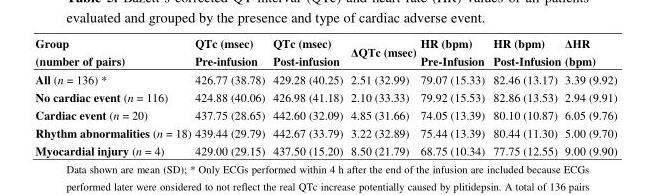table: (34, 34, 616, 158)
table column: (34, 34, 192, 158), (268, 34, 346, 158), (192, 34, 268, 158), (488, 34, 562, 158), (346, 34, 417, 158), (417, 34, 488, 158), (562, 34, 616, 158)
table column header: (34, 34, 616, 69)
table row: (34, 34, 616, 69), (34, 69, 616, 87), (34, 87, 616, 105), (34, 105, 616, 123), (34, 123, 616, 141), (34, 141, 616, 158)
